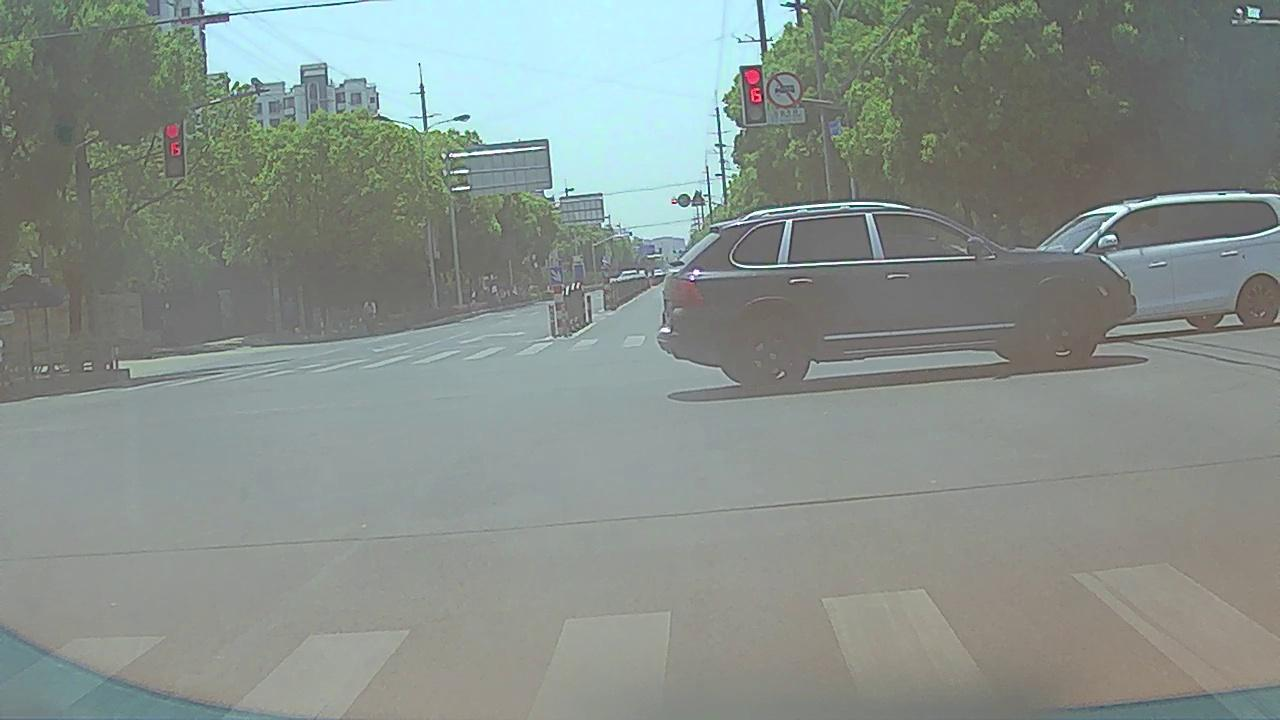traffic_light: (743, 69, 766, 125), (165, 119, 185, 179)
